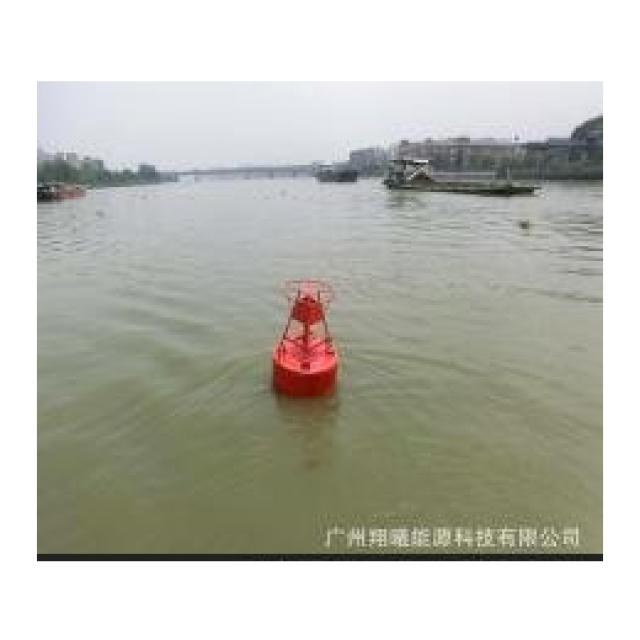buoy: (268, 276, 340, 395)
